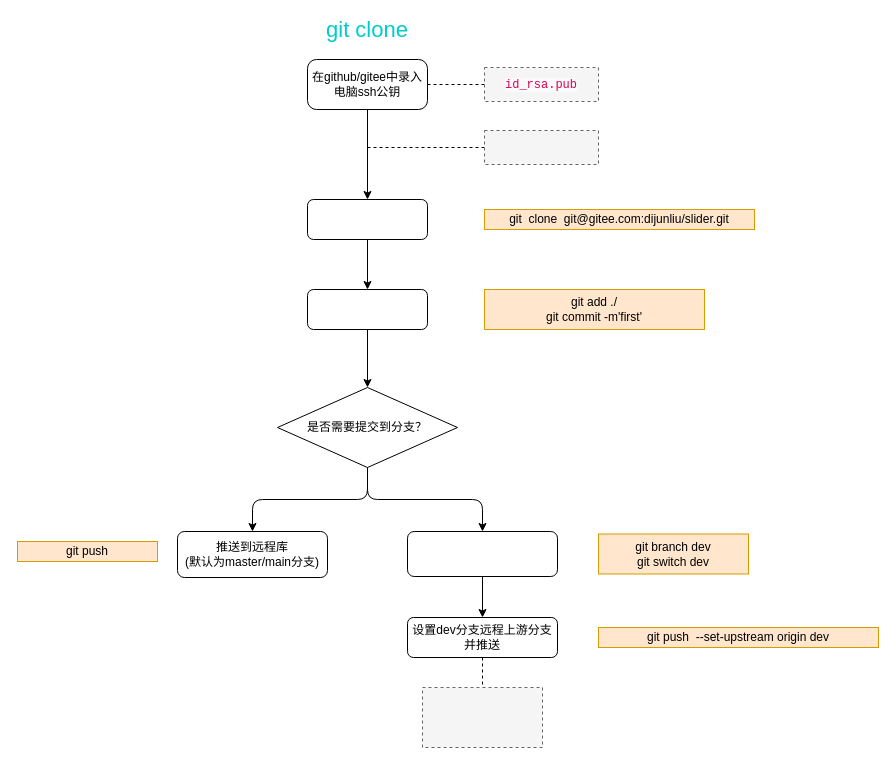
Image size: 896x765. Some labels were removed from this diagram. Here are the shapes that lost their labels. From the top down, the box of each, then its label:
(484, 130, 598, 164): 复制准备clone的仓库ssh地址
(306, 198, 428, 240): clone 仓库代码
(306, 288, 428, 330): 提交修改
(406, 530, 558, 576): 本地新建、切换到dev分支
(422, 686, 542, 748): 之后可直接使用git push推送
